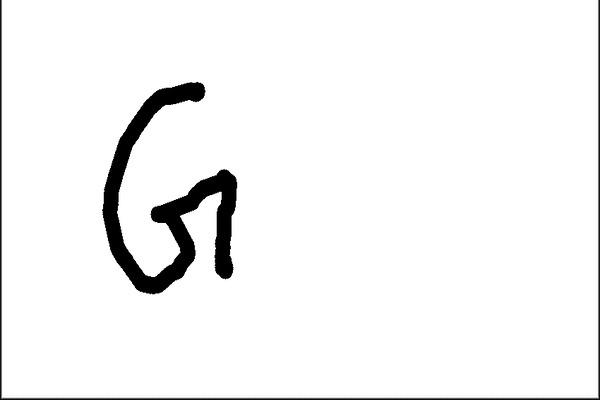G: (98, 77, 243, 297)
